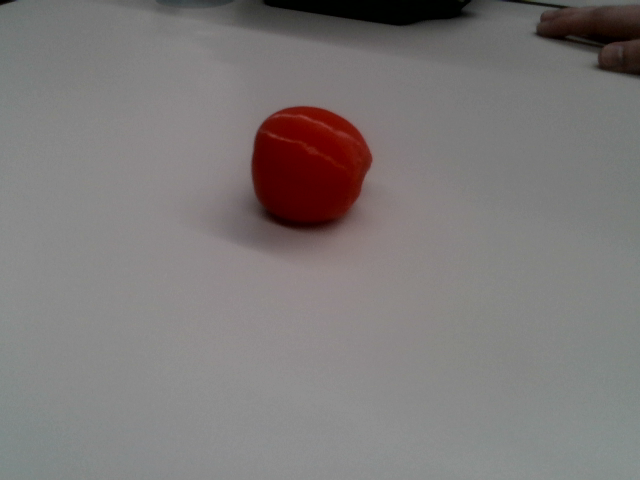red apple: (242, 98, 379, 233)
